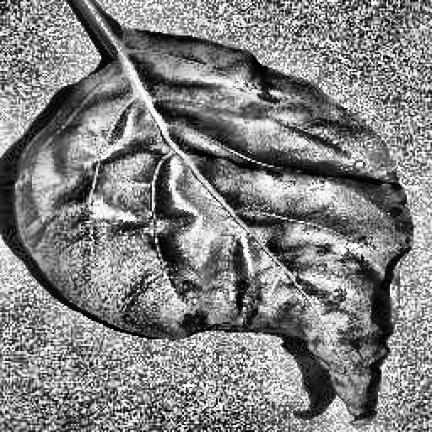leaf: (15, 0, 412, 424)
